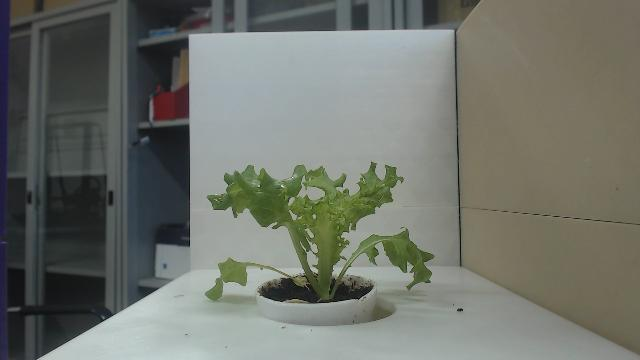Vegetative Stage: (203, 161, 435, 302)
